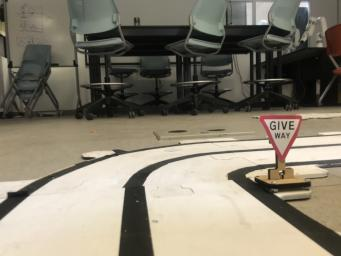give_way: (254, 115, 311, 193), (254, 115, 311, 193), (254, 115, 311, 193), (254, 115, 311, 193), (254, 115, 311, 193), (254, 115, 311, 193)
street: (0, 139, 341, 255), (0, 139, 341, 255), (0, 139, 341, 255), (0, 139, 341, 255), (0, 139, 341, 255), (0, 139, 341, 255), (287, 136, 341, 167), (287, 136, 341, 167), (287, 136, 341, 167), (287, 136, 341, 167), (287, 136, 341, 167), (287, 136, 341, 167)
